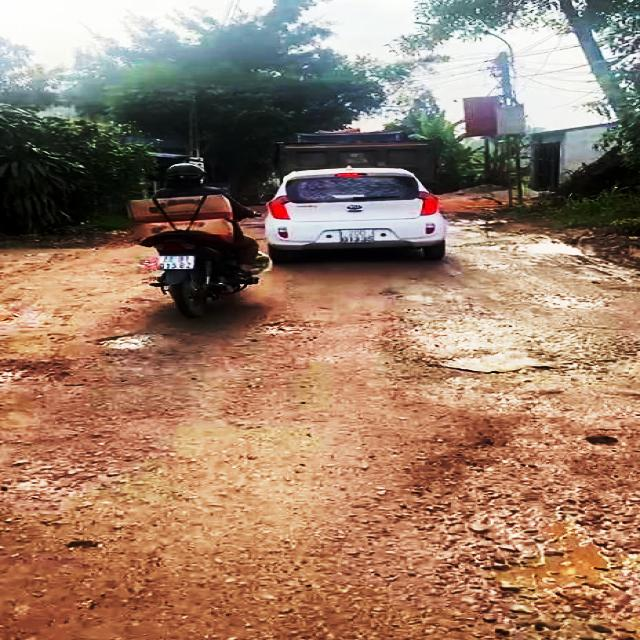pothole: (393, 431, 640, 640), (379, 324, 586, 376), (0, 358, 84, 388), (94, 330, 171, 351), (255, 317, 302, 340)
